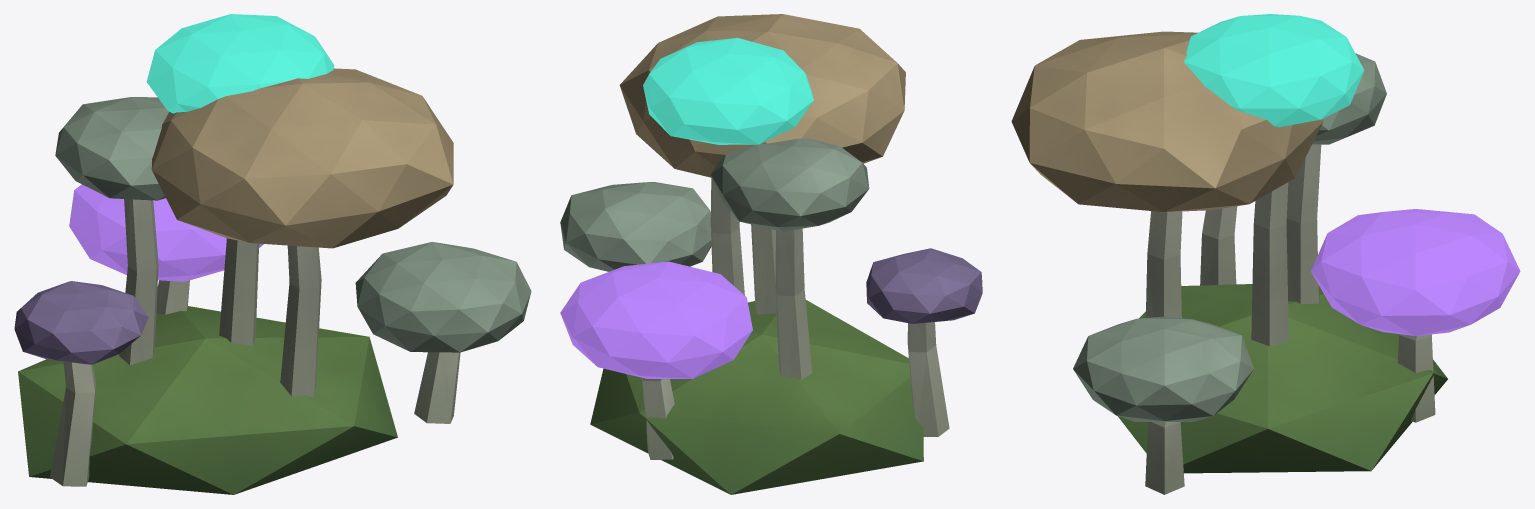
Rendered from fungi_cluster_a.glb.
3 views of the same model, side by side, from view 1: azimuth 30°, elevation 25°; view 2: azimuth 150°, elevation 25°; view 3: azimuth 270°, elevation 25° (orthographic). The views are drawn at different scales.
Visible parts, largest first — view 1: fungi_cluster_a; view 2: fungi_cluster_a; view 3: fungi_cluster_a.
Part boxes in pixels (x1,y1,x2,y2): fungi_cluster_a: (14, 14, 531, 494); fungi_cluster_a: (560, 14, 982, 494); fungi_cluster_a: (1011, 14, 1520, 494).
Size of the model in its own units: 1.28 by 1.13 by 1.2.
2 materials, 2 textured.
